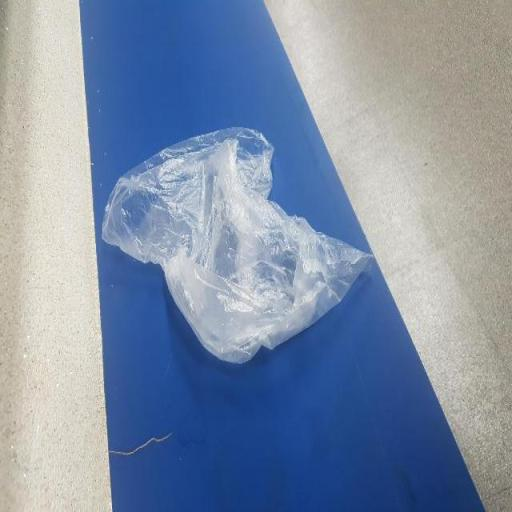plastic-bag: (101, 123, 377, 370)
